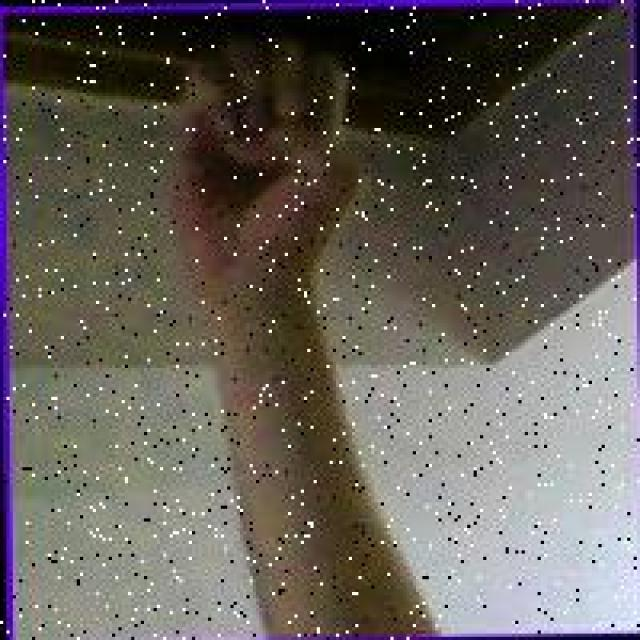E: (156, 29, 378, 326)
